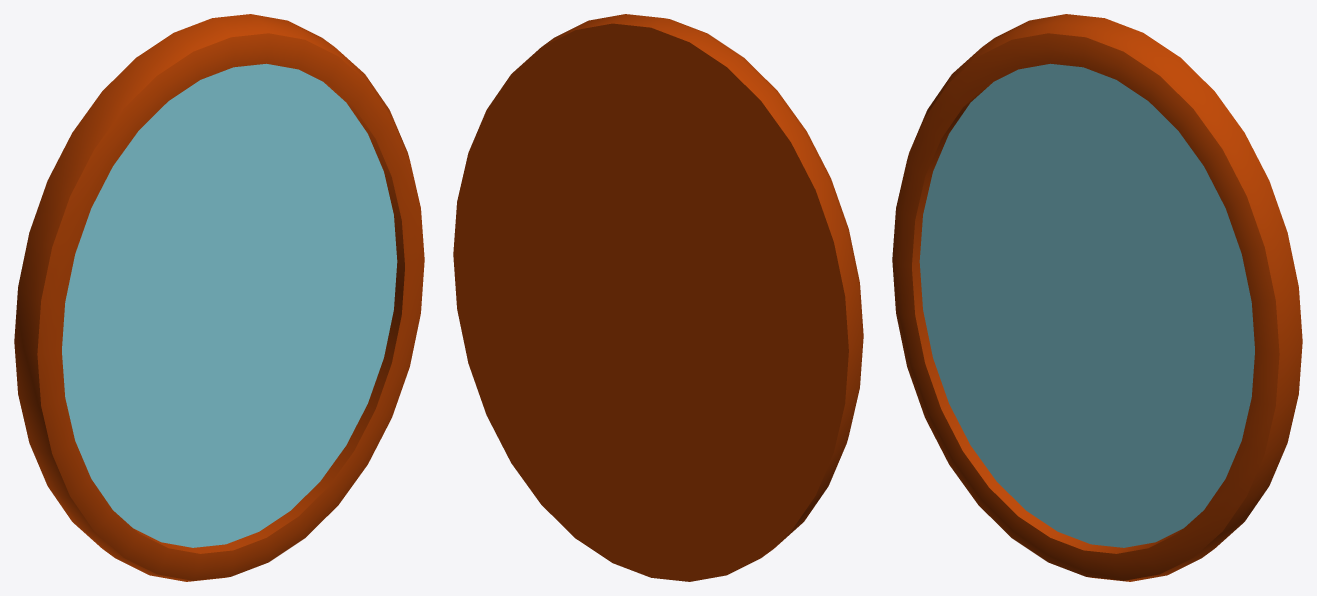
File: Mirror.fbx
The picture shows the model from 3 angles, left to right: view 1: azimuth 30°, elevation 25°; view 2: azimuth 150°, elevation 25°; view 3: azimuth 330°, elevation 25°; orthographic projection.
Visible parts, largest first — view 1: Circle; view 2: Circle; view 3: Circle.
Part boxes in pixels (<box>): Circle: <box>14,14,424,581</box>; Circle: <box>453,14,863,581</box>; Circle: <box>892,14,1302,581</box>.
Size of the model in its own units: 80.47 by 107 by 7.52.
1 material, 1 textured.
